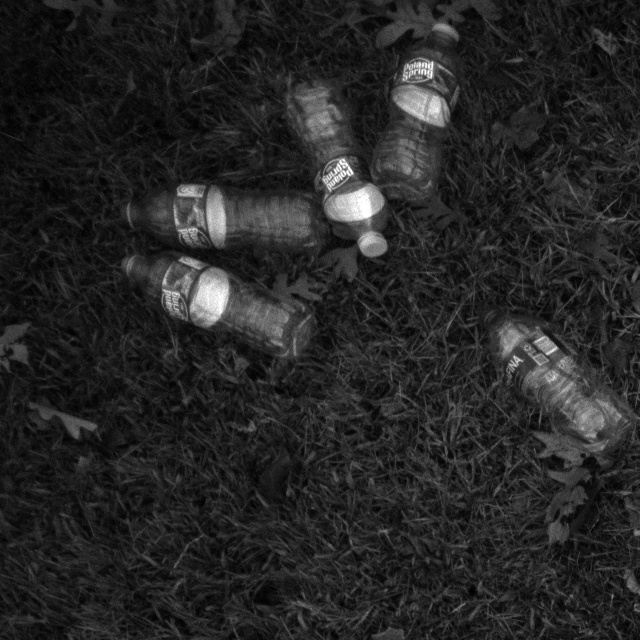bottle: (105, 237, 312, 364), (488, 299, 635, 462), (277, 71, 390, 264), (365, 14, 473, 214), (116, 168, 317, 245)
